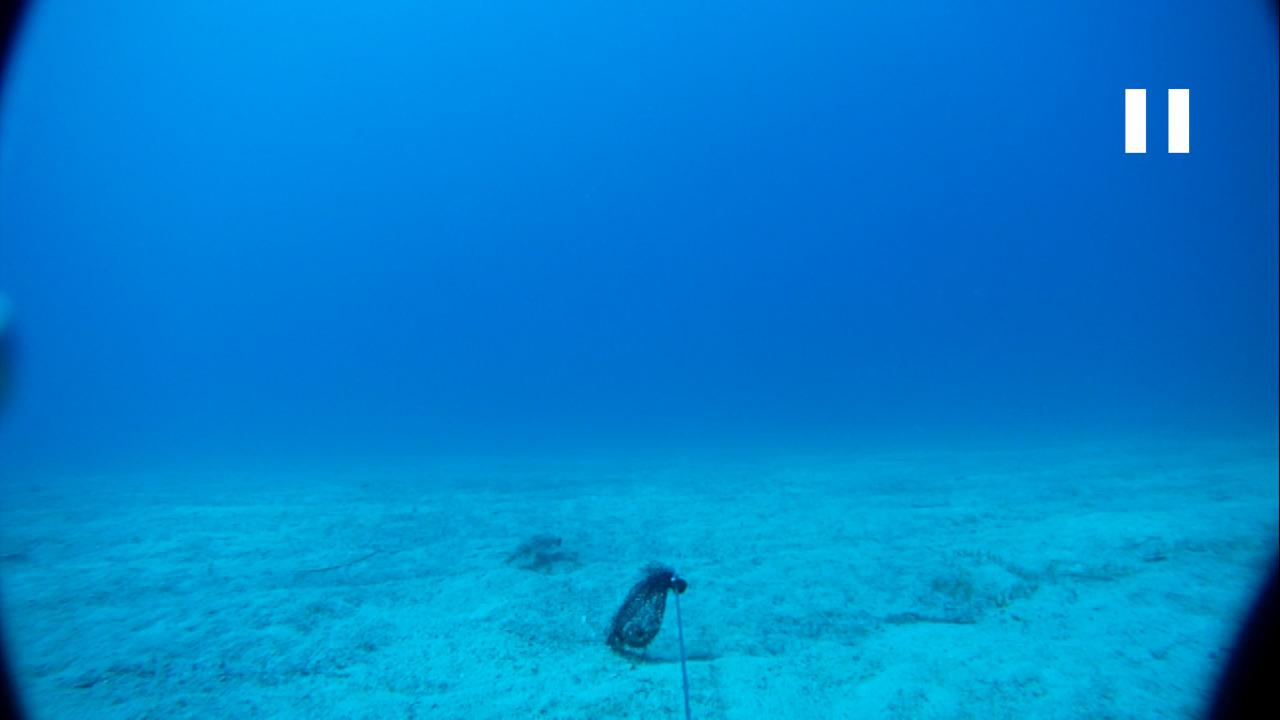dactylopterus: (487, 523, 582, 585)
